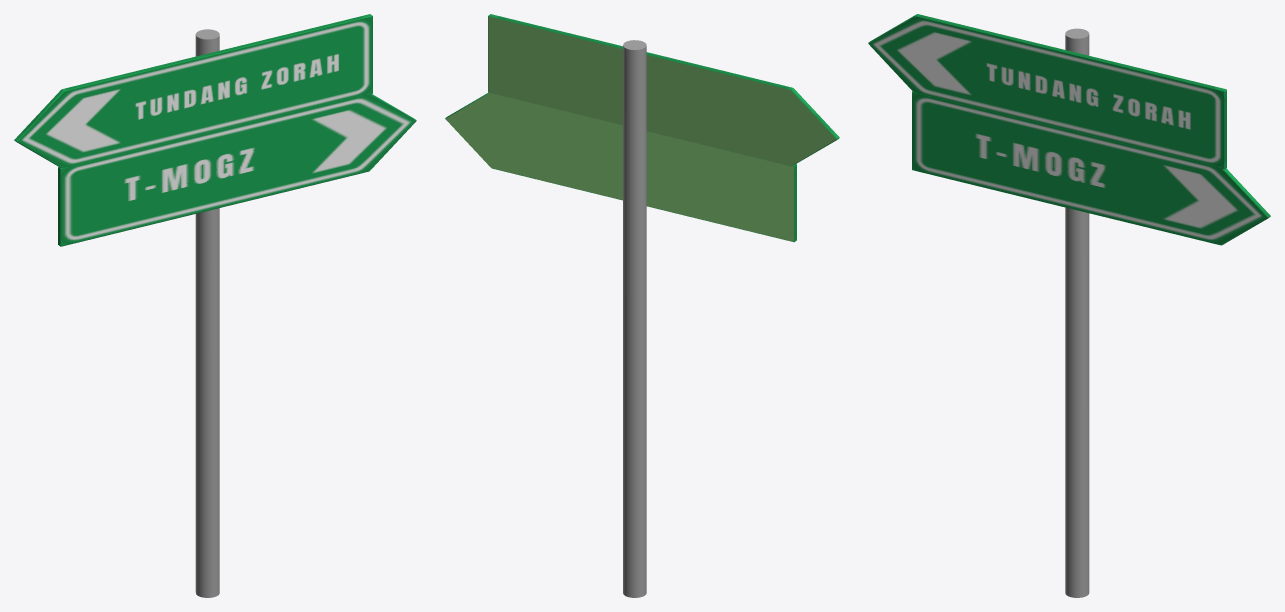
The model's file is Intersection(2).fbx.
3 views of the same model, side by side, from view 1: azimuth 30°, elevation 25°; view 2: azimuth 150°, elevation 25°; view 3: azimuth 330°, elevation 25° (orthographic). The views are drawn at different scales.
Parts seen in each view (by area): view 1: pCube69; view 2: pCube69; view 3: pCube69.
Boxes of the visible parts, x1,y1,x2,y2 form: pCube69: (14, 14, 416, 597); pCube69: (445, 14, 839, 597); pCube69: (868, 14, 1270, 597).
Bounding box in the file's own units: 6.08 × 8.11 × 0.3997.
5 materials, 2 textured.
